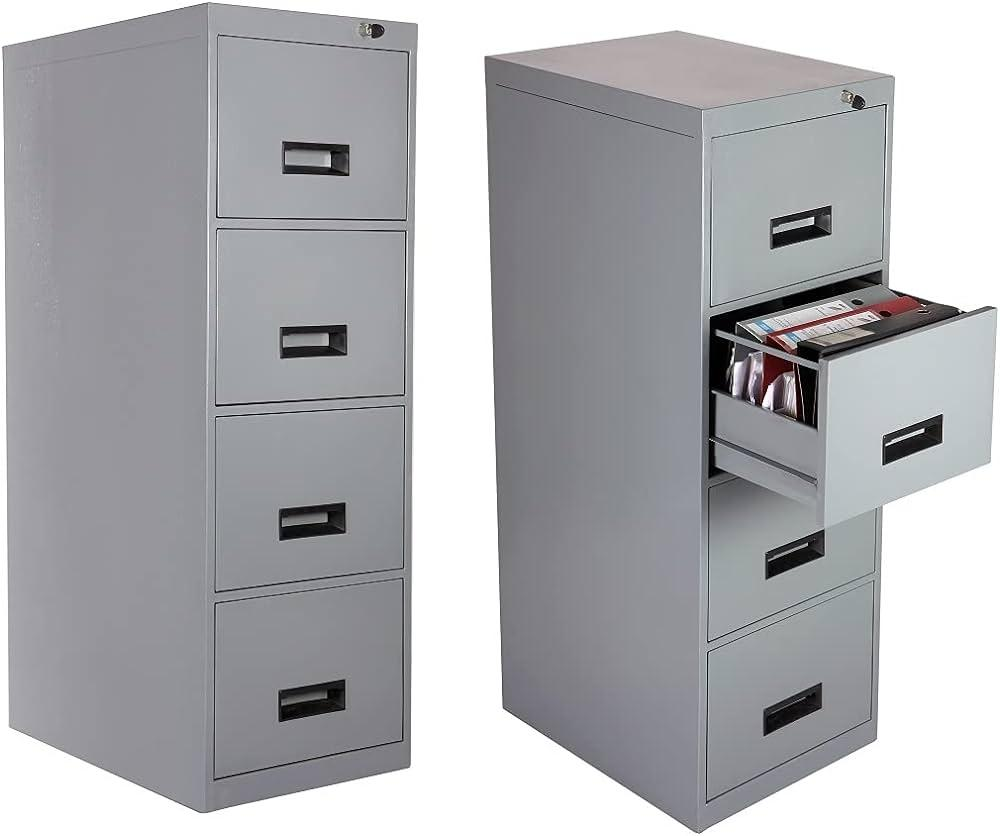Filing Cabinet: (696, 74, 999, 835), (200, 0, 418, 809)
